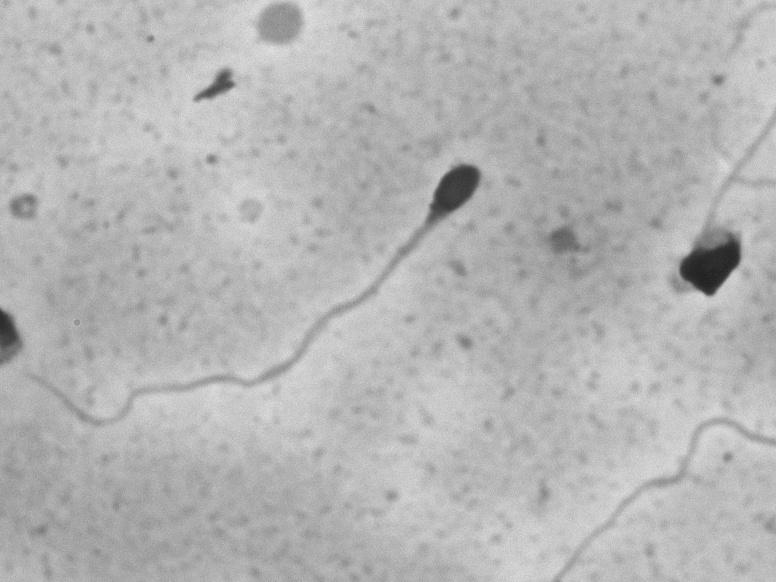Abnormal: (77, 128, 500, 473)
